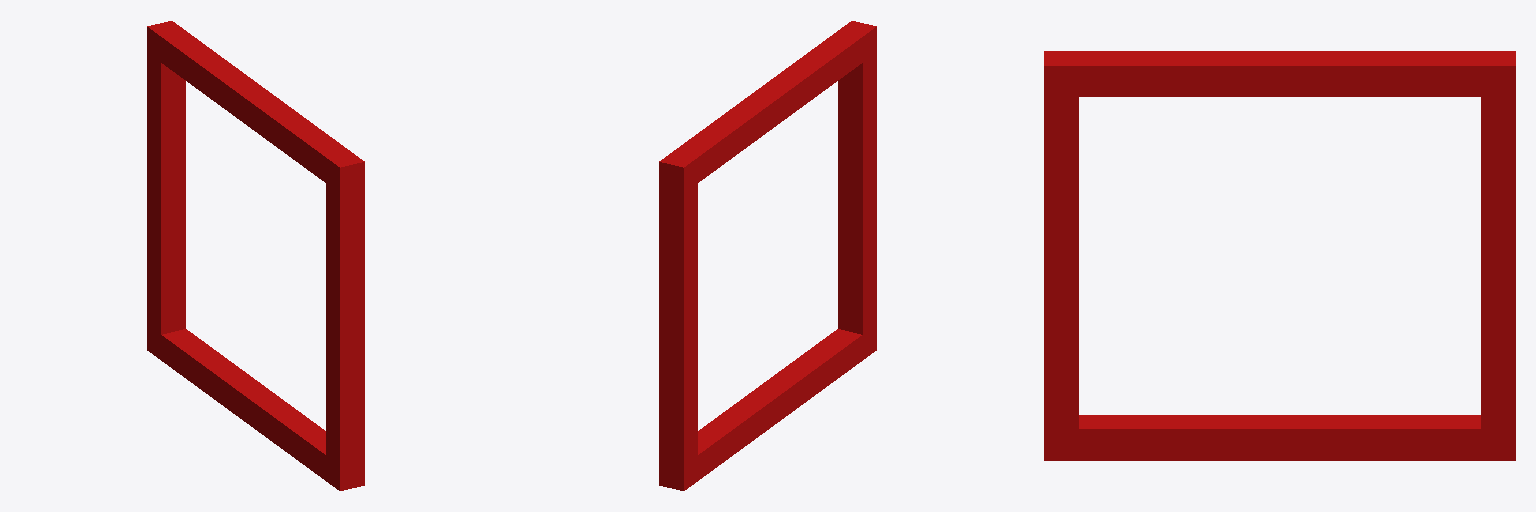
robot.urdf — gate_minimum:
<?xml version="1.0"?>
<robot name="gate_minimum">

  <!-- Minimum gate material (red color to distinguish from other gates) -->
  <material name="gate_minimum_material">
    <color rgba="0.8 0.1 0.1 1.0"/>
  </material>

  <!-- The base of the gate, to which all other parts are connected. -->
  <link name="base_link"/>

  <!-- Left vertical post of the gate (0.4x scale) -->
  <link name="left_post">
    <visual>
      <origin xyz="0 0 0.5" rpy="0 0 0"/>
      <geometry>
        <!-- Scaled: 0.2*0.4 = 0.08, 2.5*0.4 = 1.0 -->
        <box size="0.08 0.08 1.0"/>
      </geometry>
      <material name="gate_minimum_material"/>
    </visual>
    <collision>
      <origin xyz="0 0 0.5" rpy="0 0 0"/>
      <geometry>
        <box size="0.08 0.08 1.0"/>
      </geometry>
    </collision>
    <inertial>
      <mass value="4"/>
      <inertia ixx="0.8" ixy="0.0" ixz="0.0" iyy="0.8" iyz="0.0" izz="0.8"/>
    </inertial>
  </link>

  <!-- Connects the left post to the base (0.4x scale) -->
  <joint name="base_to_left_post" type="fixed">
    <parent link="base_link"/>
    <child link="left_post"/>
    <!-- Scaled: 1.25*0.4 = 0.5 -->
    <origin xyz="0 0.5 0" rpy="0 0 0"/>
  </joint>

  <!-- Right vertical post of the gate (0.4x scale) -->
  <link name="right_post">
    <visual>
      <origin xyz="0 0 0.5" rpy="0 0 0"/>
      <geometry>
        <box size="0.08 0.08 1.0"/>
      </geometry>
      <material name="gate_minimum_material"/>
    </visual>
    <collision>
      <origin xyz="0 0 0.5" rpy="0 0 0"/>
      <geometry>
        <box size="0.08 0.08 1.0"/>
      </geometry>
    </collision>
    <inertial>
      <mass value="4"/>
      <inertia ixx="0.8" ixy="0.0" ixz="0.0" iyy="0.8" iyz="0.0" izz="0.8"/>
    </inertial>
  </link>

  <!-- Connects the right post to the base (0.4x scale) -->
  <joint name="base_to_right_post" type="fixed">
    <parent link="base_link"/>
    <child link="right_post"/>
    <!-- Scaled: -1.25*0.4 = -0.5 -->
    <origin xyz="0 -0.5 0" rpy="0 0 0"/>
  </joint>

  <!-- Top horizontal bar of the gate (0.4x scale) -->
  <link name="top_bar">
    <visual>
      <origin xyz="0 0 0" rpy="0 0 0"/>
      <geometry>
        <!-- Scaled: 0.2*0.4 = 0.08, 2.7*0.4 = 1.08 -->
        <box size="0.08 1.08 0.08"/>
      </geometry>
      <material name="gate_minimum_material"/>
    </visual>
    <collision>
      <origin xyz="0 0 0" rpy="0 0 0"/>
      <geometry>
        <box size="0.08 1.08 0.08"/>
      </geometry>
    </collision>
    <inertial>
      <mass value="4"/>
      <inertia ixx="0.8" ixy="0.0" ixz="0.0" iyy="0.8" iyz="0.0" izz="0.8"/>
    </inertial>
  </link>

  <!-- Connects the top bar to the base (0.4x scale) -->
  <joint name="base_to_top_bar" type="fixed">
    <parent link="base_link"/>
    <child link="top_bar"/>
    <!-- Scaled: 2.4*0.4 = 0.96 -->
    <origin xyz="0 0 0.96" rpy="0 0 0"/>
  </joint>

  <!-- Bottom horizontal bar of the gate (0.4x scale) -->
  <link name="bottom_bar">
    <visual>
      <origin xyz="0 0 0" rpy="0 0 0"/>
      <geometry>
        <box size="0.08 1.08 0.08"/>
      </geometry>
      <material name="gate_minimum_material"/>
    </visual>
    <collision>
      <origin xyz="0 0 0" rpy="0 0 0"/>
      <geometry>
        <box size="0.08 1.08 0.08"/>
      </geometry>
    </collision>
    <inertial>
      <mass value="4"/>
      <inertia ixx="0.8" ixy="0.0" ixz="0.0" iyy="0.8" iyz="0.0" izz="0.8"/>
    </inertial>
  </link>

  <!-- Connects the bottom bar to the base (0.4x scale) -->
  <joint name="base_to_bottom_bar" type="fixed">
    <parent link="base_link"/>
    <child link="bottom_bar"/>
    <!-- Scaled: 0.1*0.4 = 0.04 -->
    <origin xyz="0 0 0.04" rpy="0 0 0"/>
  </joint>

</robot> 

--- Facts derived from the render (not from the file) ---
Views: 3 orthographic renders of the robot side by side, from view 1: azimuth 30°, elevation 25°; view 2: azimuth 150°, elevation 25°; view 3: azimuth 270°, elevation 25°.
Model gate_minimum with 5 links and 4 joints (4 fixed), rooted at base_link, posed all joints at 0.
Visible links, largest first — view 1: right_post, left_post, top_bar, bottom_bar; view 2: left_post, right_post, top_bar, bottom_bar; view 3: bottom_bar, top_bar, left_post, right_post.
Link boxes in pixels (box(x1,y1,x2,y2)): right_post: box(326, 151, 364, 490); left_post: box(147, 21, 185, 359); top_bar: box(147, 21, 364, 193); bottom_bar: box(147, 329, 364, 490); left_post: box(659, 151, 697, 490); right_post: box(838, 21, 876, 359); top_bar: box(659, 21, 876, 193); bottom_bar: box(659, 329, 876, 490); bottom_bar: box(1044, 415, 1515, 460); top_bar: box(1044, 51, 1515, 96); left_post: box(1481, 51, 1515, 460); right_post: box(1044, 51, 1078, 460).
Size in the robot's own frame: 0.08 by 1.08 by 1 metres.
Geometry: primitives only (box / cylinder / sphere), no mesh files.
